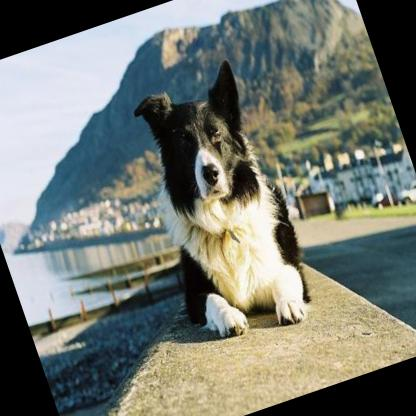collie: (115, 55, 322, 352)
